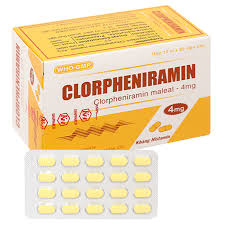Clorpheniramin: (62, 62, 196, 102)
